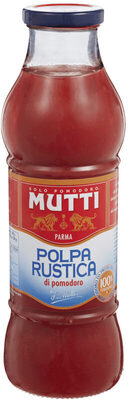Tomate Saus: (6, 20, 122, 380)
